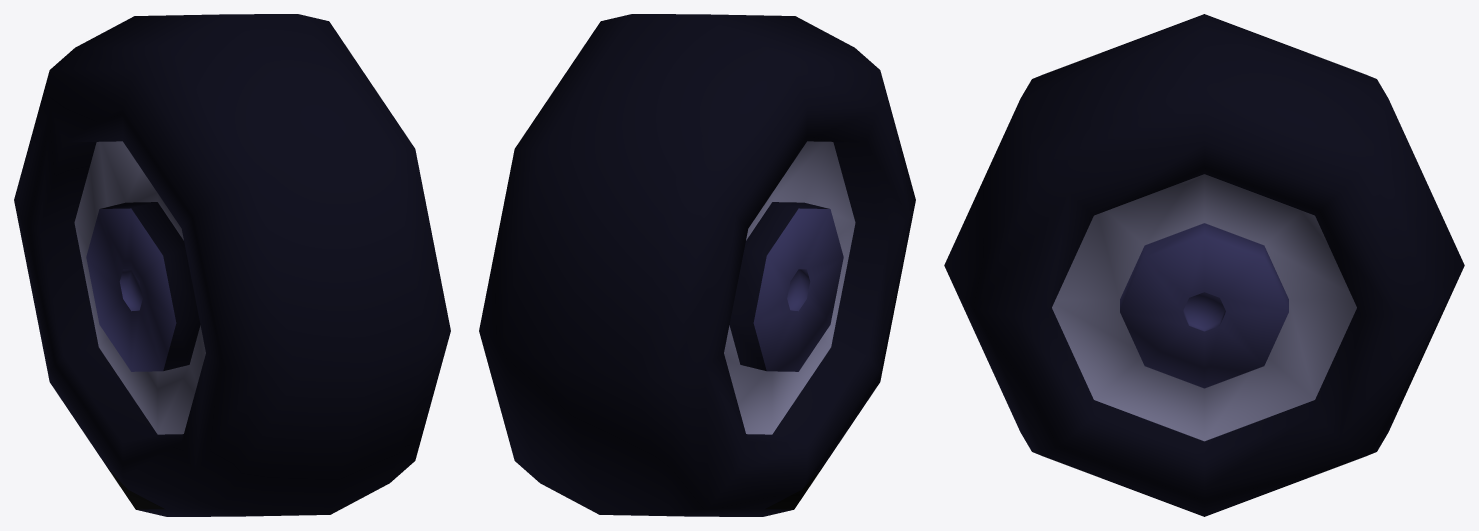
File: Car_Wheel.fbx
3 views of the same model, side by side, from view 1: azimuth 30°, elevation 25°; view 2: azimuth 150°, elevation 25°; view 3: azimuth 270°, elevation 25° (orthographic). The views are drawn at different scales.
Visible parts, largest first — view 1: pCylinder142; view 2: pCylinder142; view 3: pCylinder142.
Boxes of the visible parts, <box> form: pCylinder142: <box>14,14,450,516</box>; pCylinder142: <box>479,14,915,516</box>; pCylinder142: <box>944,14,1464,516</box>.
Size of the model in its own units: 29.84 by 65.3 by 65.3.
